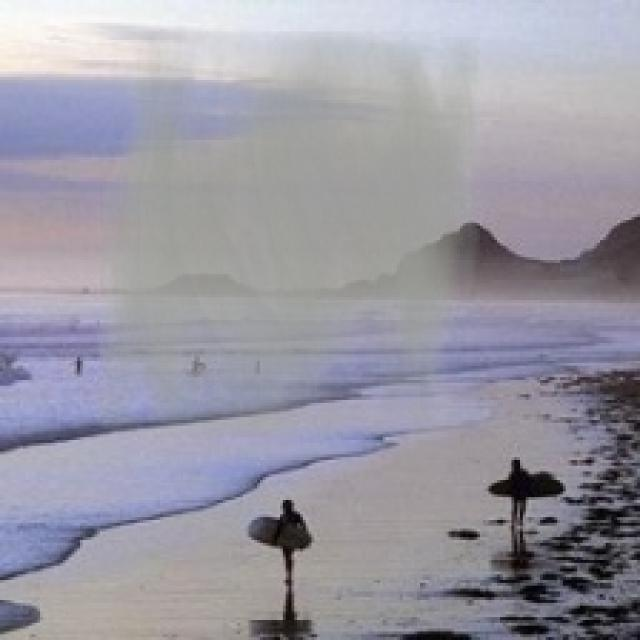smoke: (97, 32, 480, 437)
